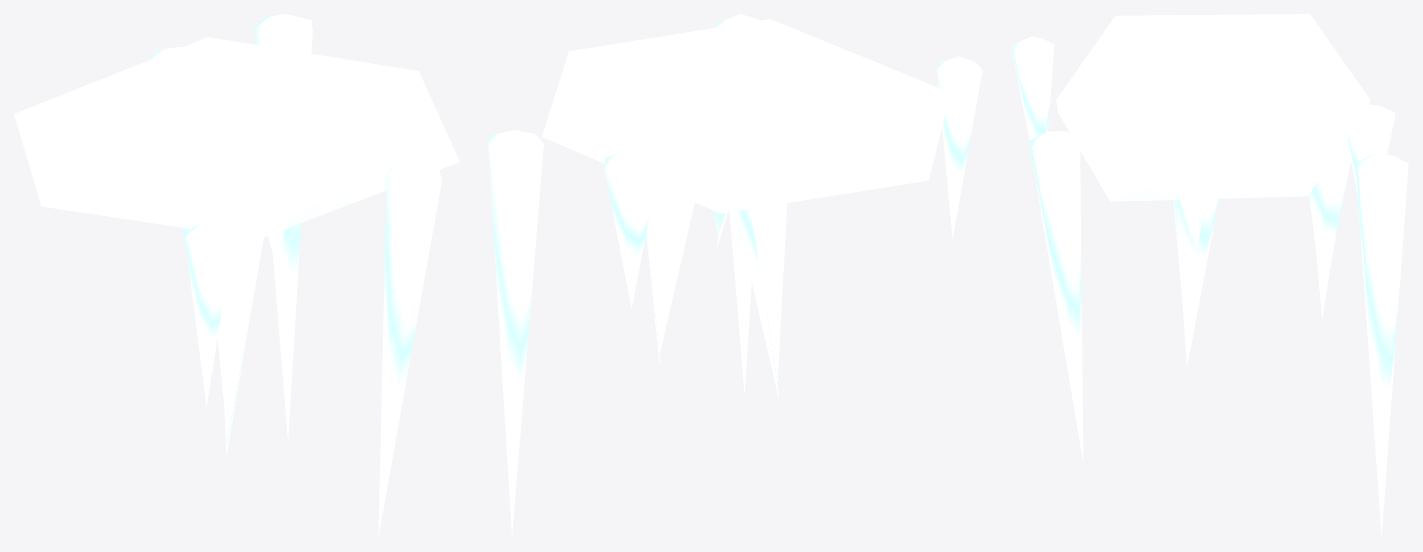
Rendered from icicle_cluster_lod1.gltf.
3 views of the same model, side by side, from view 1: azimuth 30°, elevation 25°; view 2: azimuth 150°, elevation 25°; view 3: azimuth 270°, elevation 25° (orthographic). The views are drawn at different scales.
Parts seen in each view (by area): view 1: icicle_cluster_LOD1; view 2: icicle_cluster_LOD1; view 3: icicle_cluster_LOD1.
Part boxes in pixels (x1,y1,x2,y2): icicle_cluster_LOD1: (14,14,459,536); icicle_cluster_LOD1: (488,14,982,536); icicle_cluster_LOD1: (1011,14,1408,535).
Size of the model in its own units: 0.6601 by 0.7777 by 0.6749.
Materials: 1 (1 with a texture image).
